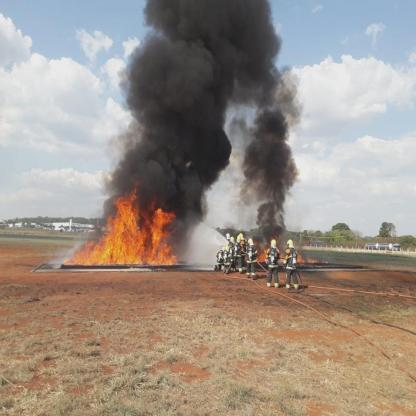Fire: (65, 183, 186, 276)
Smoke: (116, 0, 280, 189)
